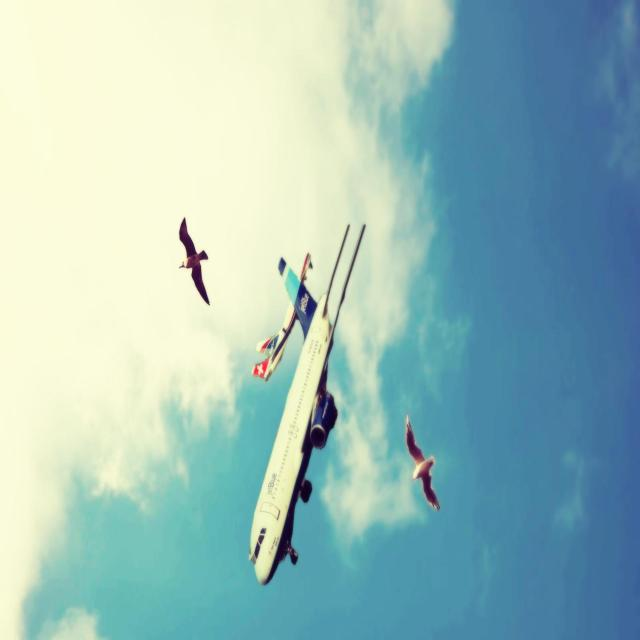airplane: (248, 222, 366, 586), (251, 250, 312, 381)
